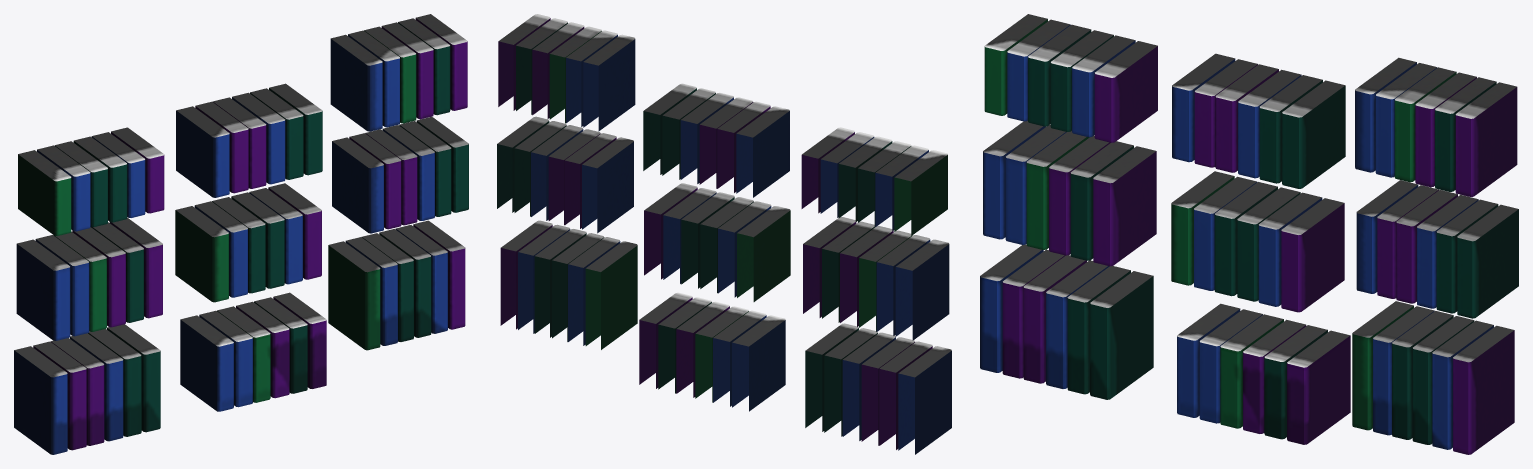
Rendered from Tx_props_bookhelf_books.fbx.
3 renders of one model, left to right at view 1: azimuth 30°, elevation 25°; view 2: azimuth 150°, elevation 25°; view 3: azimuth 330°, elevation 25°, orthographic. The views are drawn at different scales.
Parts seen in each view (by area): view 1: Tx_props_bookhelf_books; view 2: Tx_props_bookhelf_books; view 3: Tx_props_bookhelf_books.
Part boxes in pixels (box(x1,y1,x2,y2)): Tx_props_bookhelf_books: box(14, 14, 468, 454); Tx_props_bookhelf_books: box(497, 14, 951, 454); Tx_props_bookhelf_books: box(980, 14, 1518, 454).
Size of the model in its own units: 20.47 by 14.6 by 3.2.
